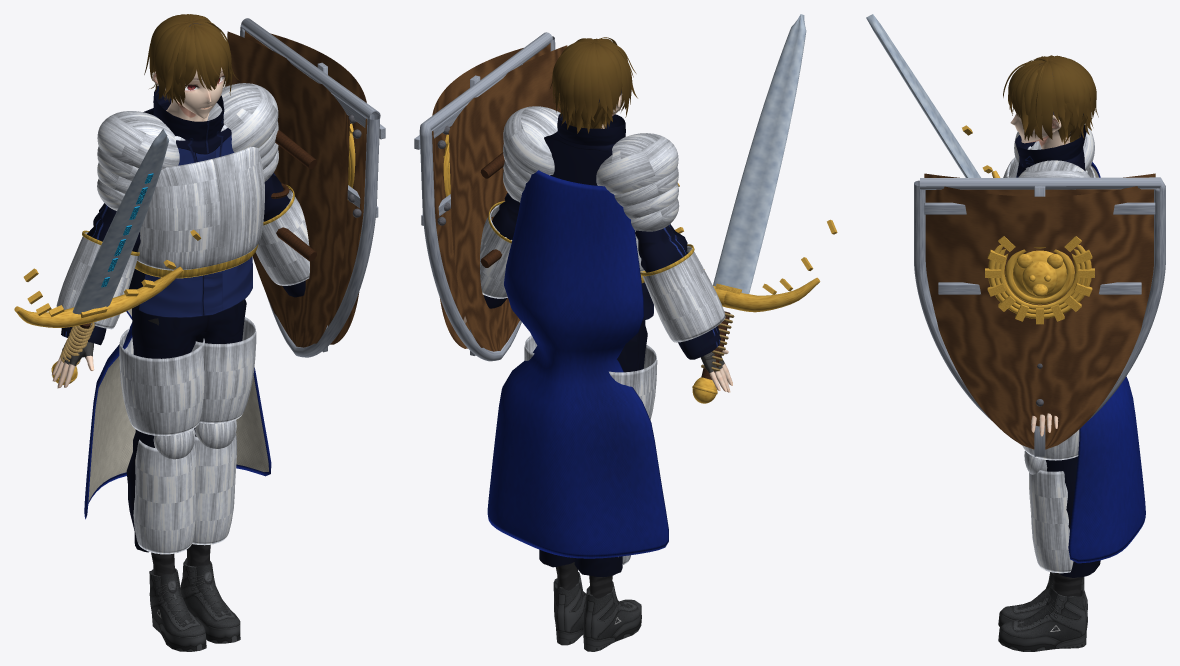
The model's file is chr_ally_garrick_royal_paladin.glb.
3 views of the same model, side by side, from view 1: azimuth 30°, elevation 25°; view 2: azimuth 150°, elevation 25°; view 3: azimuth 270°, elevation 25° (orthographic). The views are drawn at different scales.
Visible parts, largest first — view 1: forearm_l_shield5, torso_cuirass, cloak_cape, leg_r_cuisse, shin_r_greave, forearm_l_shield8, head_00HAIR, torso_Tops01CLOTH, weapon_r_sword0, leg_l_cuisse, shin_l_greave, arm_l_pauldron0 (+24 smaller); view 2: cloak_cape, forearm_l_shield5, weapon_r_sword0, head_00HAIR, forearm_l_shield8, forearm_r_vambrace, arm_r_pauldron0, arm_l_pauldron0, shin_r_Shoes01CLOTH, head_Tops01CLOTH, forearm_r_Tops01CLOTH, shin_l_Shoes01CLOTH (+11 smaller); view 3: forearm_l_shield5, cloak_cape, forearm_l_shield8, head_00HAIR, shin_l_Shoes01CLOTH, shin_l_greave, forearm_l_shield4, forearm_l_shield7, weapon_r_sword0, forearm_l_shield1, head_Tops01CLOTH, forearm_l_shield3 (+7 smaller).
Part boxes in pixels (bbox=[...]): forearm_l_shield5: bbox=[225, 31, 367, 347]; torso_cuirass: bbox=[137, 146, 264, 270]; cloak_cape: bbox=[84, 308, 271, 519]; leg_r_cuisse: bbox=[119, 328, 204, 435]; shin_r_greave: bbox=[133, 439, 196, 554]; forearm_l_shield8: bbox=[240, 18, 380, 357]; head_00HAIR: bbox=[144, 14, 239, 106]; torso_Tops01CLOTH: bbox=[129, 111, 252, 317]; weapon_r_sword0: bbox=[72, 129, 169, 314]; leg_l_cuisse: bbox=[191, 317, 256, 423]; shin_l_greave: bbox=[192, 433, 236, 545]; arm_l_pauldron0: bbox=[207, 83, 278, 152]; cloak_cape: bbox=[487, 170, 668, 558]; forearm_l_shield5: bbox=[432, 43, 567, 351]; weapon_r_sword0: bbox=[713, 14, 806, 293]; head_00HAIR: bbox=[550, 37, 637, 133]; forearm_l_shield8: bbox=[419, 32, 555, 361]; forearm_r_vambrace: bbox=[641, 246, 725, 342]; arm_r_pauldron0: bbox=[596, 133, 678, 194]; arm_l_pauldron0: bbox=[503, 106, 560, 175]; shin_r_Shoes01CLOTH: bbox=[583, 581, 641, 651]; head_Tops01CLOTH: bbox=[544, 114, 625, 166]; forearm_r_Tops01CLOTH: bbox=[638, 235, 720, 359]; shin_l_Shoes01CLOTH: bbox=[553, 572, 586, 645]; forearm_l_shield5: bbox=[924, 173, 1155, 449]; cloak_cape: bbox=[1068, 162, 1145, 563]; forearm_l_shield8: bbox=[914, 177, 1165, 420]; head_00HAIR: bbox=[1003, 55, 1098, 144]; shin_l_Shoes01CLOTH: bbox=[998, 585, 1087, 651]; shin_l_greave: bbox=[1029, 470, 1073, 573]; forearm_l_shield4: bbox=[985, 236, 1094, 324]; forearm_l_shield7: bbox=[924, 185, 1155, 456]; weapon_r_sword0: bbox=[866, 14, 980, 177]; forearm_l_shield1: bbox=[1005, 249, 1074, 304]; head_Tops01CLOTH: bbox=[1015, 124, 1086, 169]; forearm_l_shield3: bbox=[1016, 254, 1063, 296].
Bounding box in the file's own units: 1.25 × 1.94 × 0.9143.
28 materials, 28 textured.
